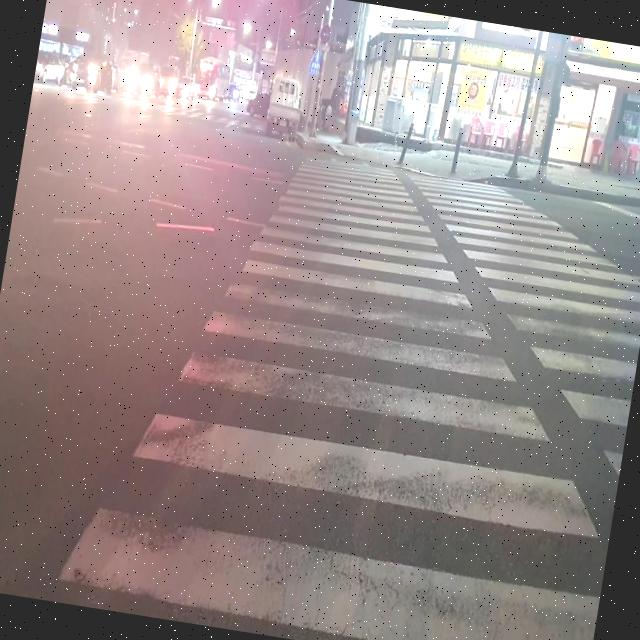crosswalk: (51, 149, 640, 640), (100, 96, 263, 134)
